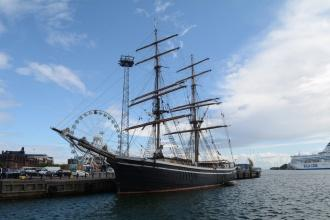fanchuan: (103, 26, 254, 196)
